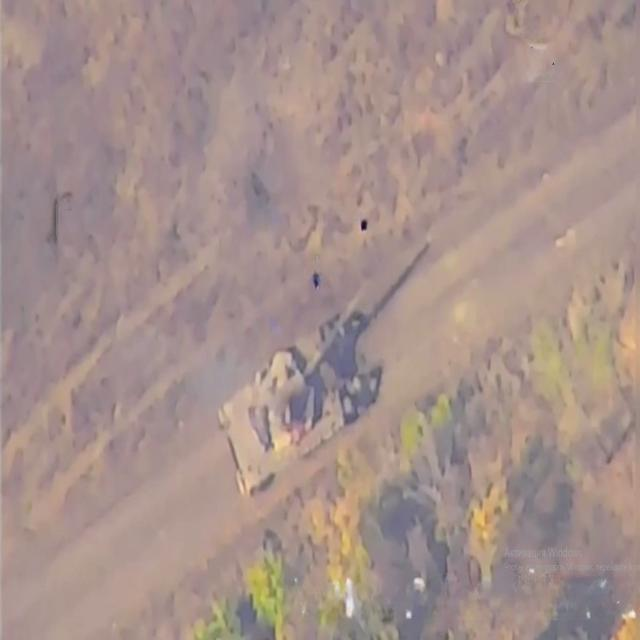MBT: (215, 284, 372, 500)
